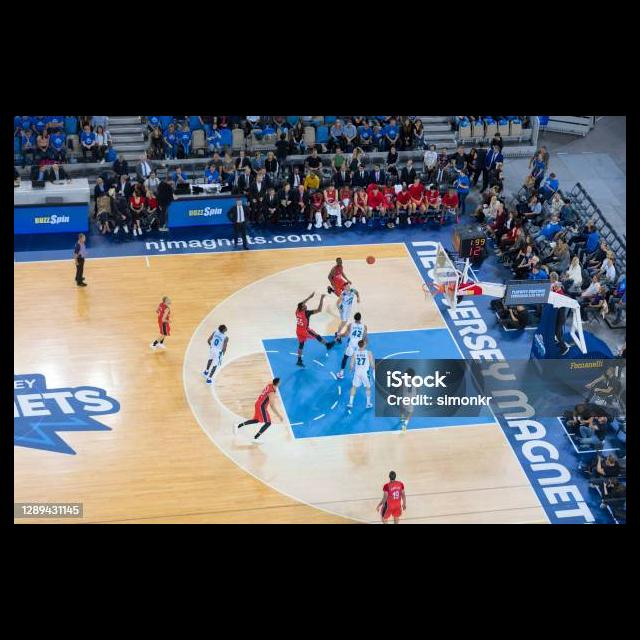basketball: (366, 254, 376, 264)
hoop: (423, 281, 438, 303)
